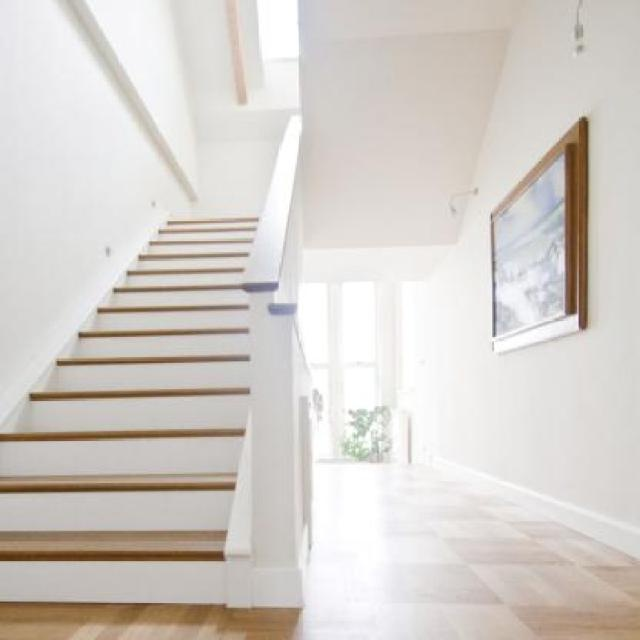stair: (1, 136, 322, 613)
